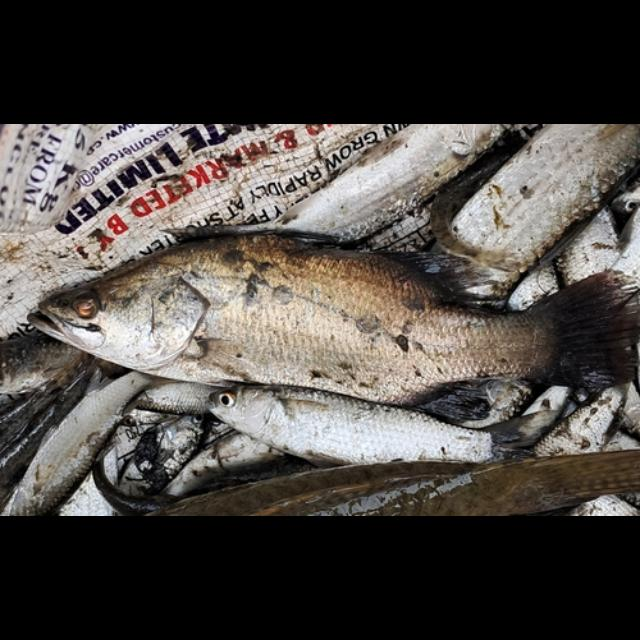Seabass: (28, 228, 640, 418)
